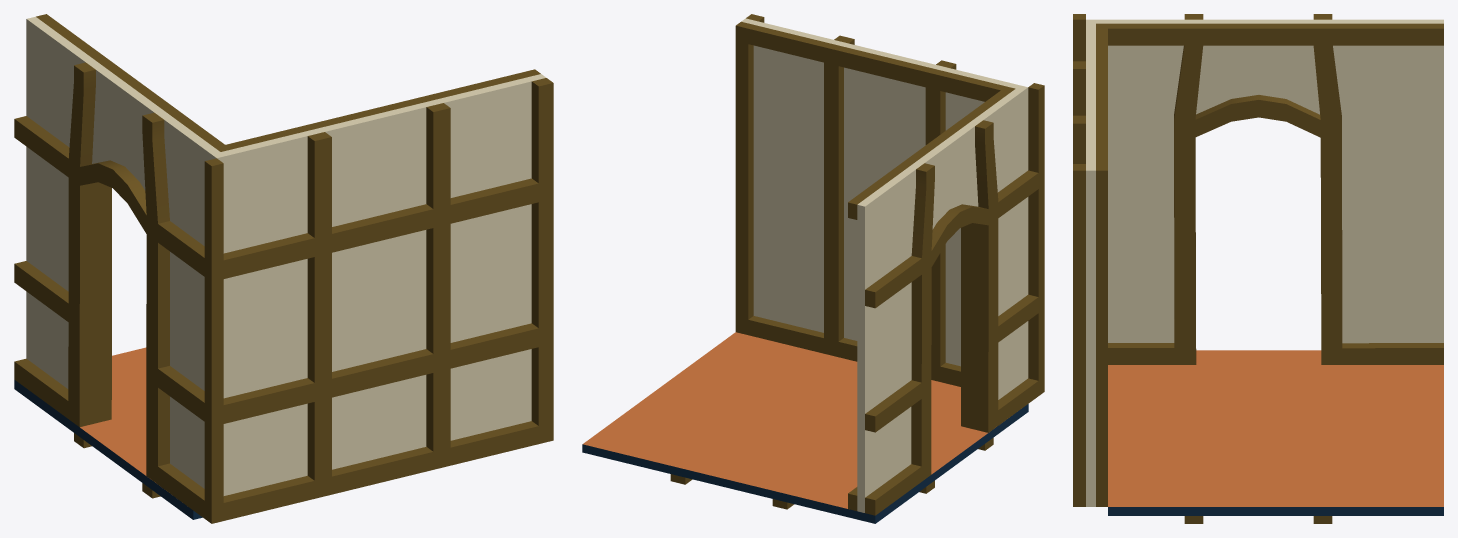
Rendered from CornerDoor.fbx.
3 renders of one model, left to right at view 1: azimuth 30°, elevation 25°; view 2: azimuth 150°, elevation 25°; view 3: azimuth 270°, elevation 25°, orthographic. The views are drawn at different scales.
Visible parts, largest first — view 1: polySurface136; view 2: polySurface136; view 3: polySurface136.
Boxes of the visible parts, x1,y1,x2,y2 form: polySurface136: (14,14,553,523); polySurface136: (582,14,1044,523); polySurface136: (1073,14,1443,523).
Bounding box in the file's own units: 3 × 3.15 × 3.
